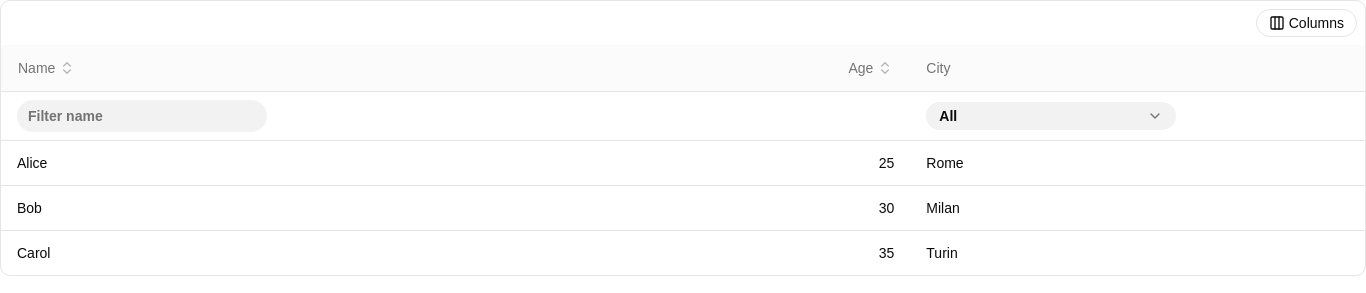
Test: DataGrid — filtering › filters rows by a case-insensitive text match
In the field named "filter by name": (142, 116) [17,100,267,132], type "a"
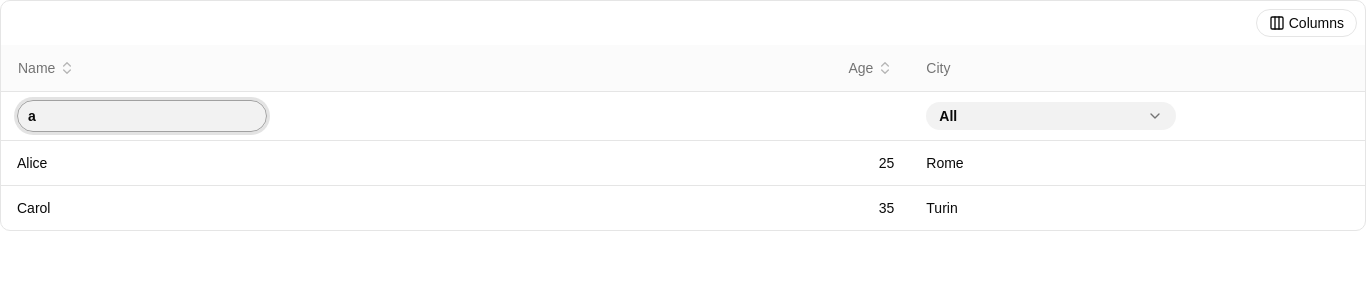
Expected: the text "Alice" is shown, [1,140,456,186]
Now the text "Bob" is gone
